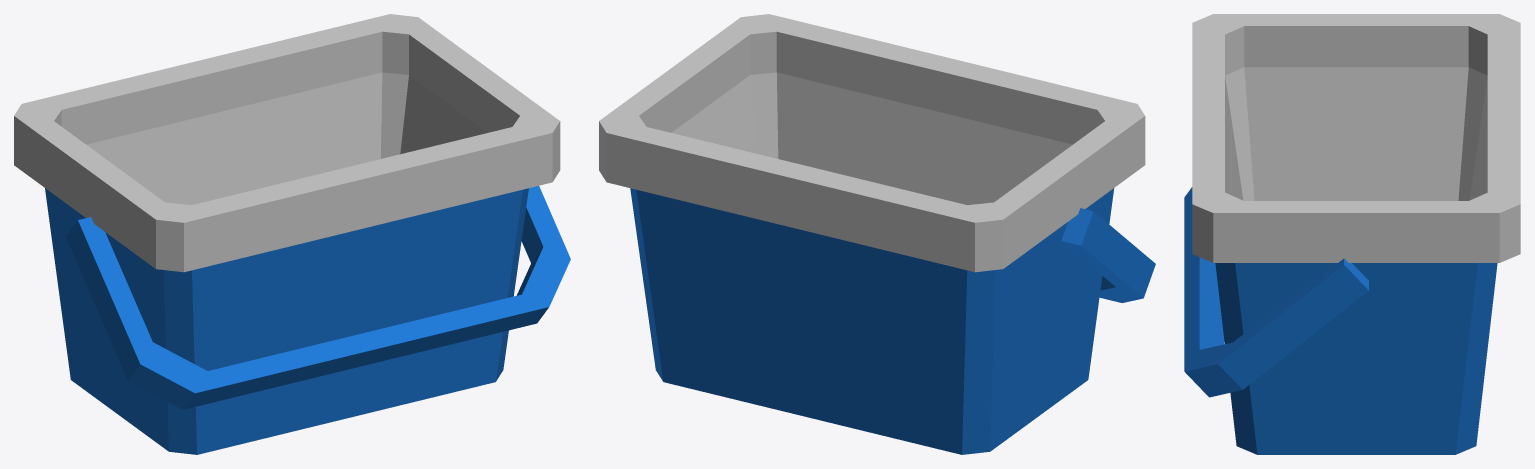
The model's file is SM_refrigerator.fbx.
3 renders of one model, left to right at view 1: azimuth 30°, elevation 25°; view 2: azimuth 150°, elevation 25°; view 3: azimuth 270°, elevation 25°, orthographic.
Visible parts, largest first — view 1: Cube_6; view 2: Cube_6; view 3: Cube_6.
Part boxes in pixels (x1=…): Cube_6: x1=14, y1=14, x2=570, y2=454; Cube_6: x1=599, y1=14, x2=1155, y2=454; Cube_6: x1=1184, y1=14, x2=1520, y2=454.
Size of the model in its own units: 40.86 by 23.27 by 27.35.
